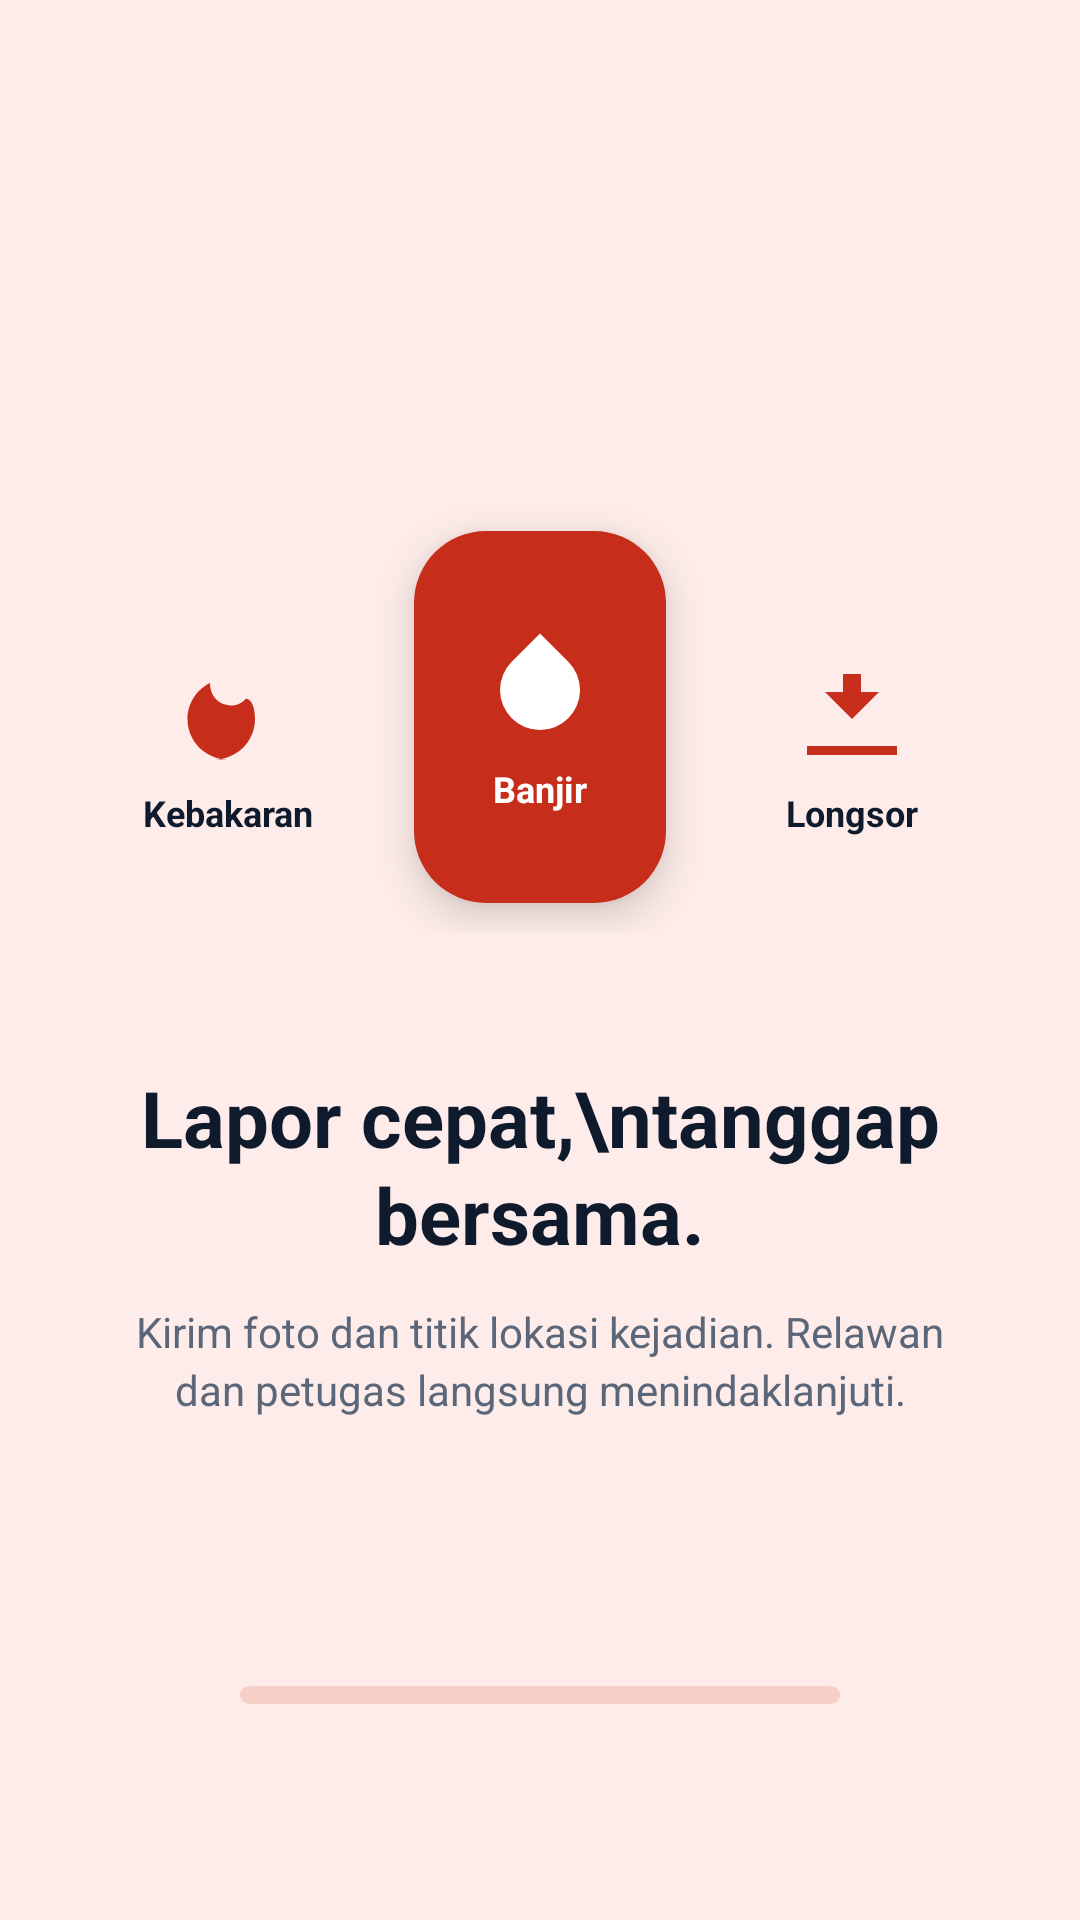

Point at icon controls on the screen. Image size 1080 x 1920, points as (x=x, y=y).
water: (x=540, y=681)
